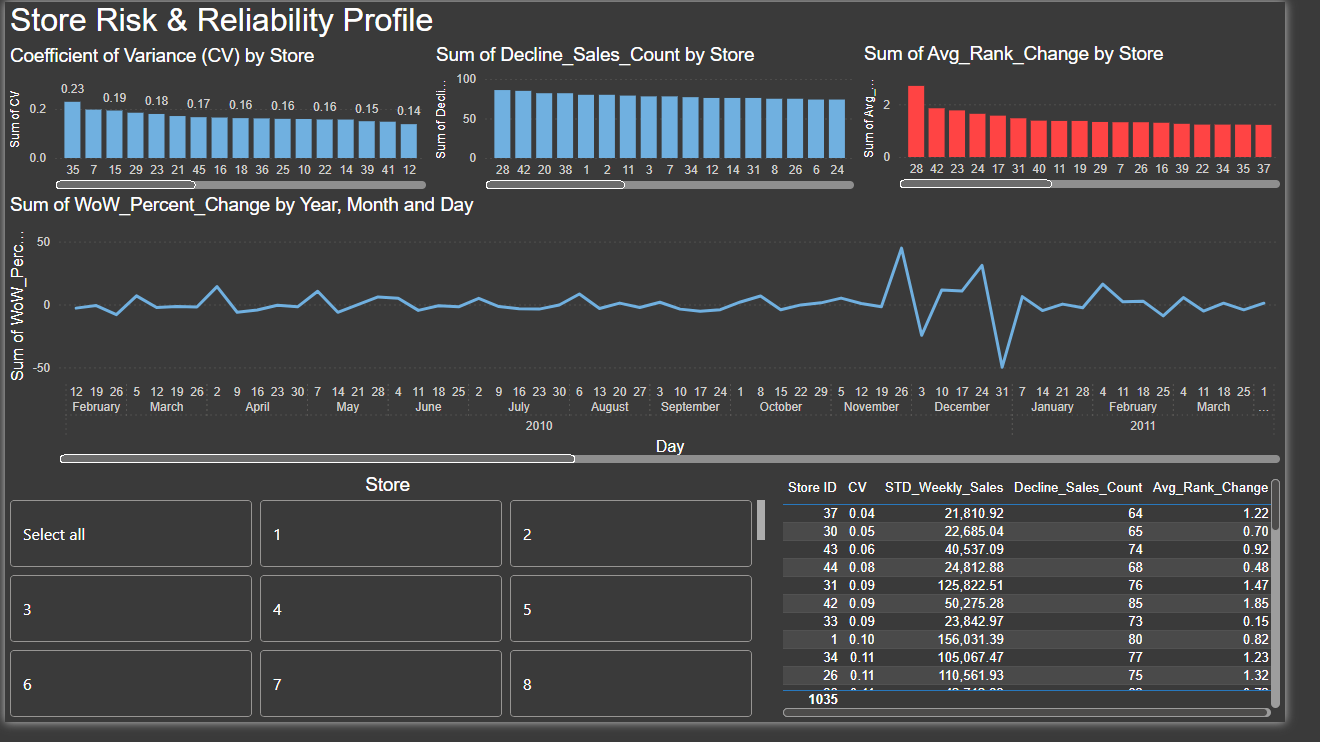

What the dashboard file says about the page in this screenshot:
{"tool":"powerbi","page":{"name":"Page 4","canvas":[1280,720],"ordinal":3},"visuals":[{"type":"textbox","title":"Store Risk & Reliability Profile","box":[425.5,0,457.9,41.3],"z":0},{"type":"clusteredColumnChart","title":"Coefficient of Variance (CV) by Store","fields":{"Category":["store_summary.Store"],"Y":["Sum(store_summary.CV)"]},"box":[0.9,41.3,425.5,227.1],"z":1000},{"type":"clusteredColumnChart","fields":{"Y":["Sum(store_rank_consistency.Avg_Rank_Change)"],"Category":["store_rank_consistency.Store"]},"box":[854.7,41.3,425.5,228],"z":2000},{"type":"clusteredColumnChart","fields":{"Y":["Sum(store_summary.Decline_Sales_Count)"],"Category":["store_summary.Store"]},"box":[425.5,41.3,428.2,227.1],"z":3000},{"type":"lineChart","title":"WoW % Change by Date","fields":{"Y":["Sum(weekly_wow_change.WoW_Change)"],"Category":["weekly_wow_change.Date.Variation.Date Hierarchy.Year"]},"box":[0.9,268.4,1279.3,273.8],"z":4000},{"type":"tableEx","fields":{"Values":["Sum(store_summary.Store)","store_summary.CV","store_summary.STD_Weekly_Sales","store_summary.Decline_Sales_Count","store_rank_consistency.Avg_Rank_Change"]},"box":[772.1,542.2,507.2,177.8],"z":5000},{"type":"advancedSlicerVisual","fields":{"Values":["store_rank_consistency.Store"]},"box":[0,542.2,764.9,177.8],"z":6000}]}

Visuals, with their boxes in screenshot pixels (x1, y1, x2, y2), scaled from the page's 1280x720 canvas onto the 1320x742 screenshot:
"Store Risk & Reliability Profile" textbox: bbox(439, 0, 911, 43)
"Coefficient of Variance (CV) by Store" clusteredColumnChart: bbox(1, 43, 440, 277)
clusteredColumnChart - Sum(store_rank_consistency.Avg_Rank_Change) x store_rank_consistency.Store: bbox(881, 43, 1319, 278)
clusteredColumnChart - Sum(store_summary.Decline_Sales_Count) x store_summary.Store: bbox(439, 43, 880, 277)
"WoW % Change by Date" lineChart: bbox(1, 277, 1319, 559)
tableEx - Sum(store_summary.Store) x store_summary.CV: bbox(796, 559, 1319, 741)
advancedSlicerVisual - store_rank_consistency.Store: bbox(0, 559, 789, 741)
